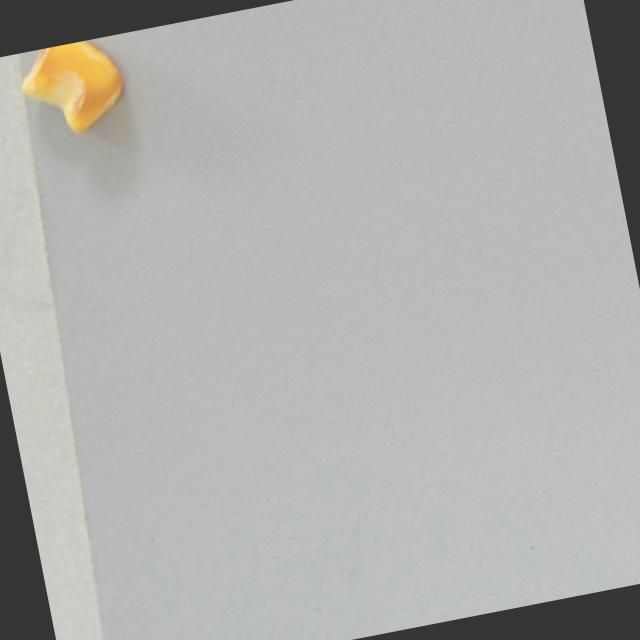dañado: (6, 33, 141, 156)
